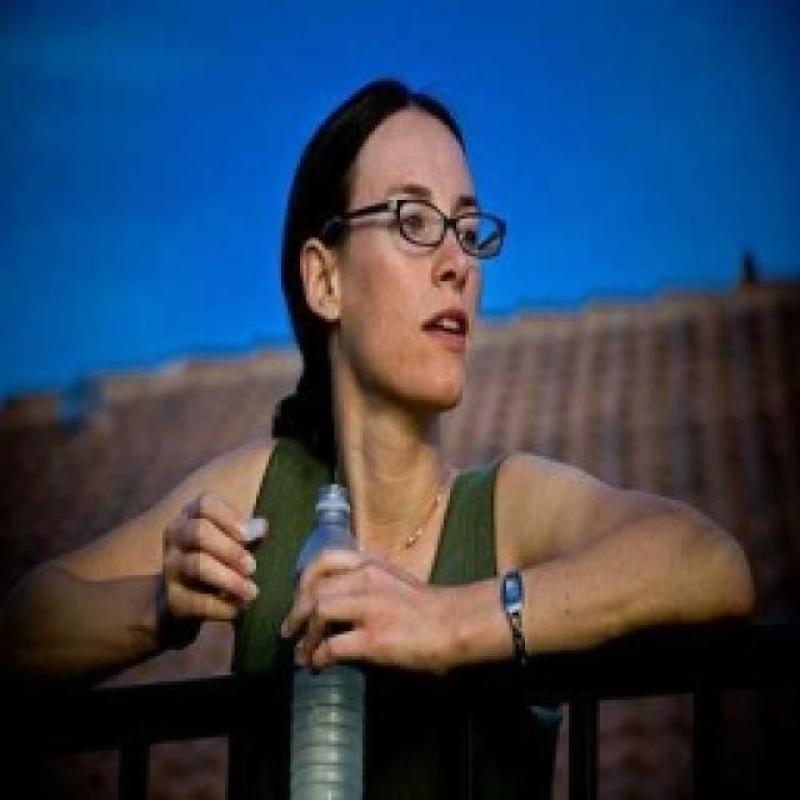botella: (296, 484, 368, 800)
